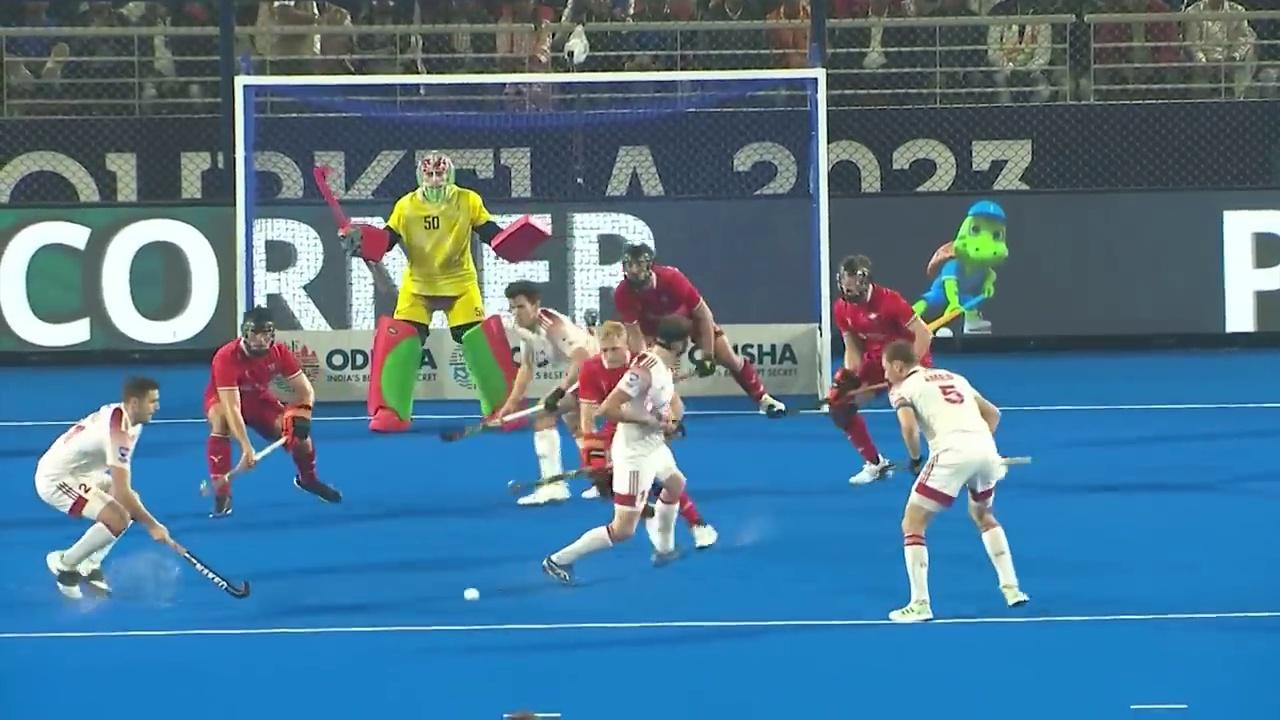ball: (460, 583, 490, 607)
